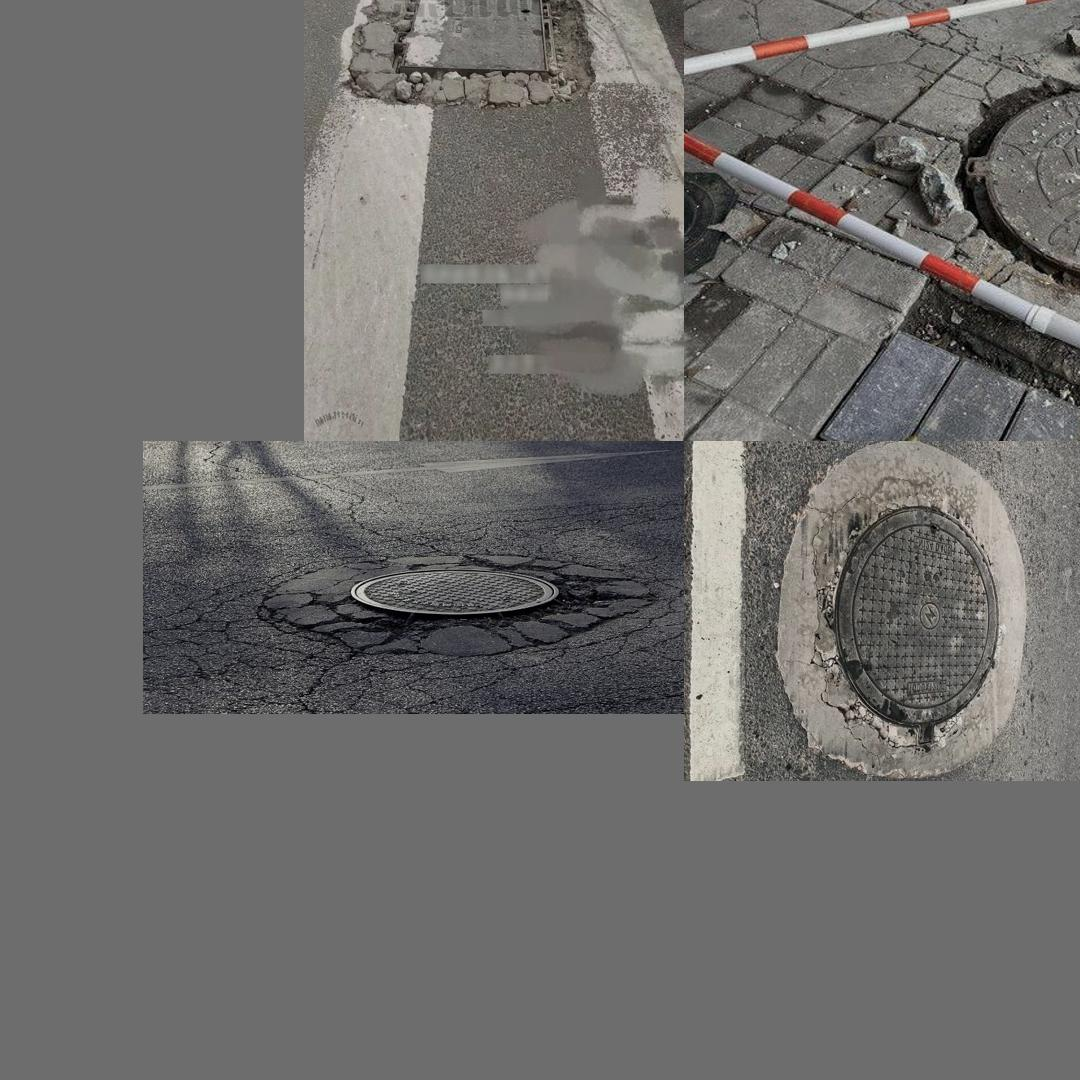circle: (149, 172, 536, 441), (778, 450, 1024, 774), (895, 55, 1080, 420), (246, 550, 616, 669)
